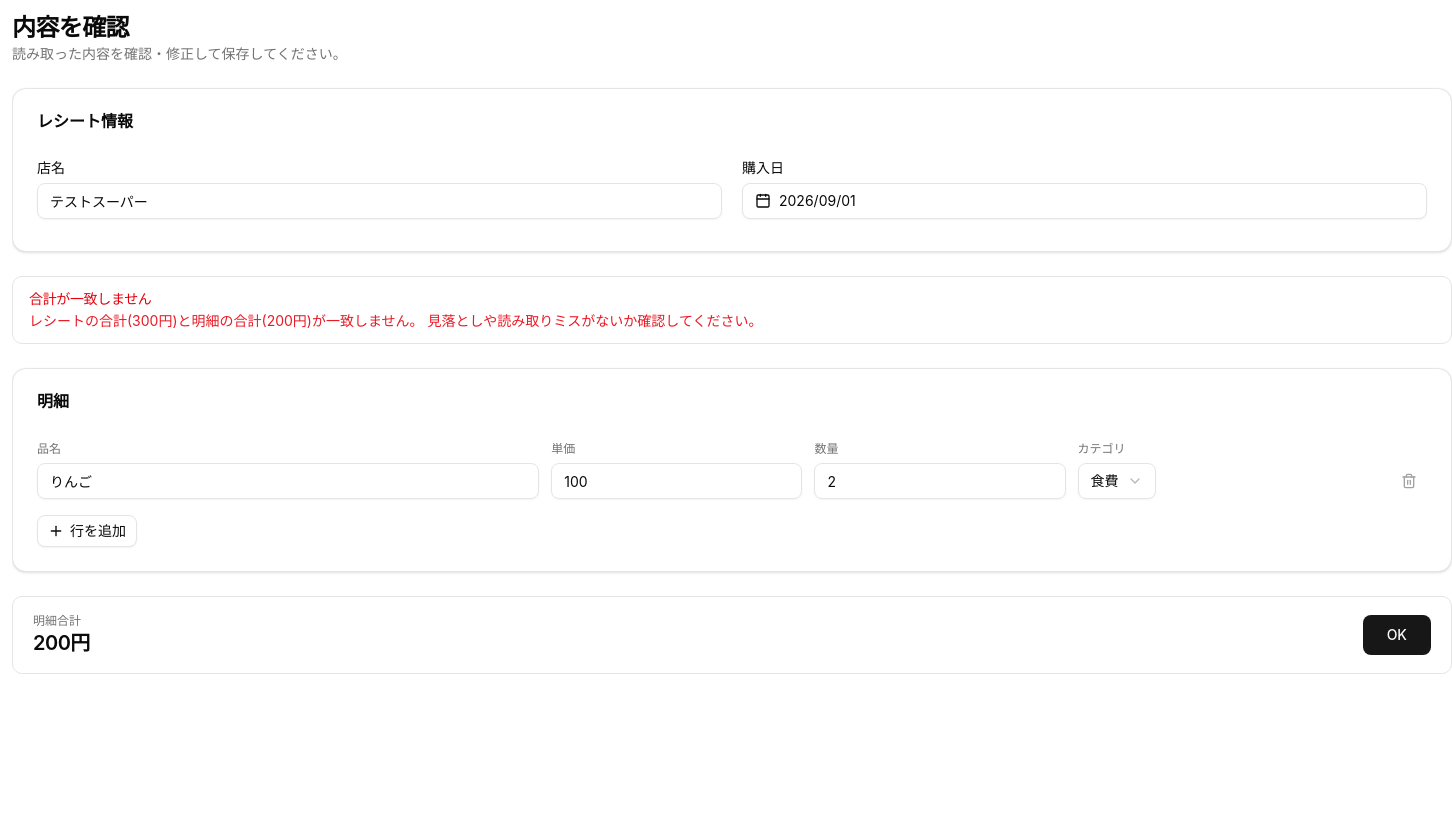
ConfirmPage › removes an item row
Expected: the field labelled "品名" is shown, [37, 463, 539, 499]
Click the button named "削除": click(1409, 481) [1391, 463, 1427, 499]
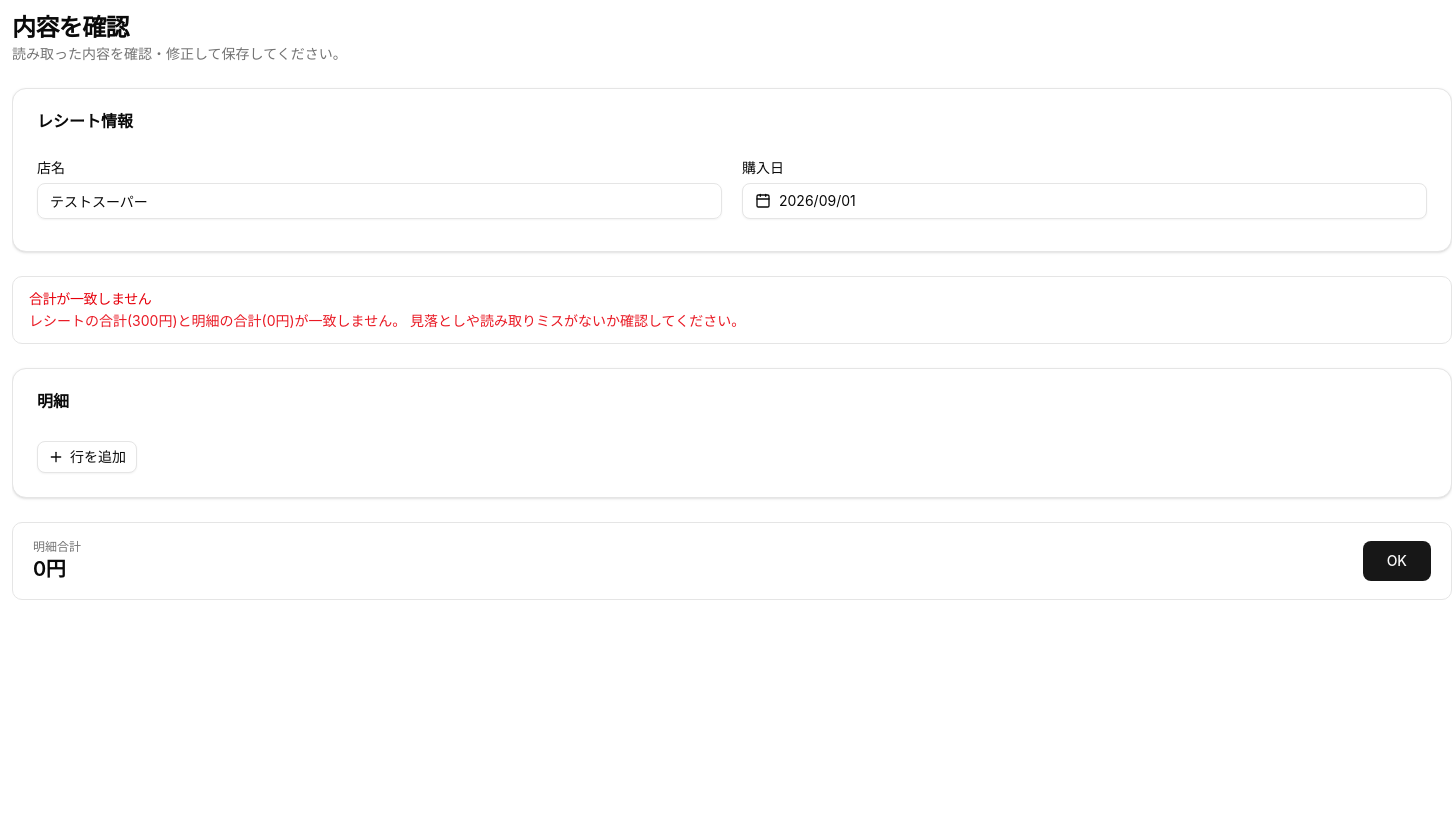
Now no labels labelled "品名" are shown
